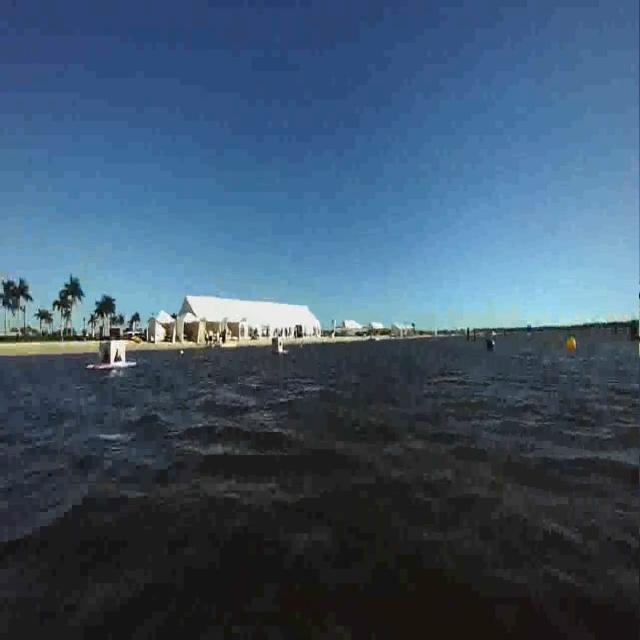blue-buoy: (485, 336, 497, 354)
yellow-buoy: (567, 336, 577, 353)
